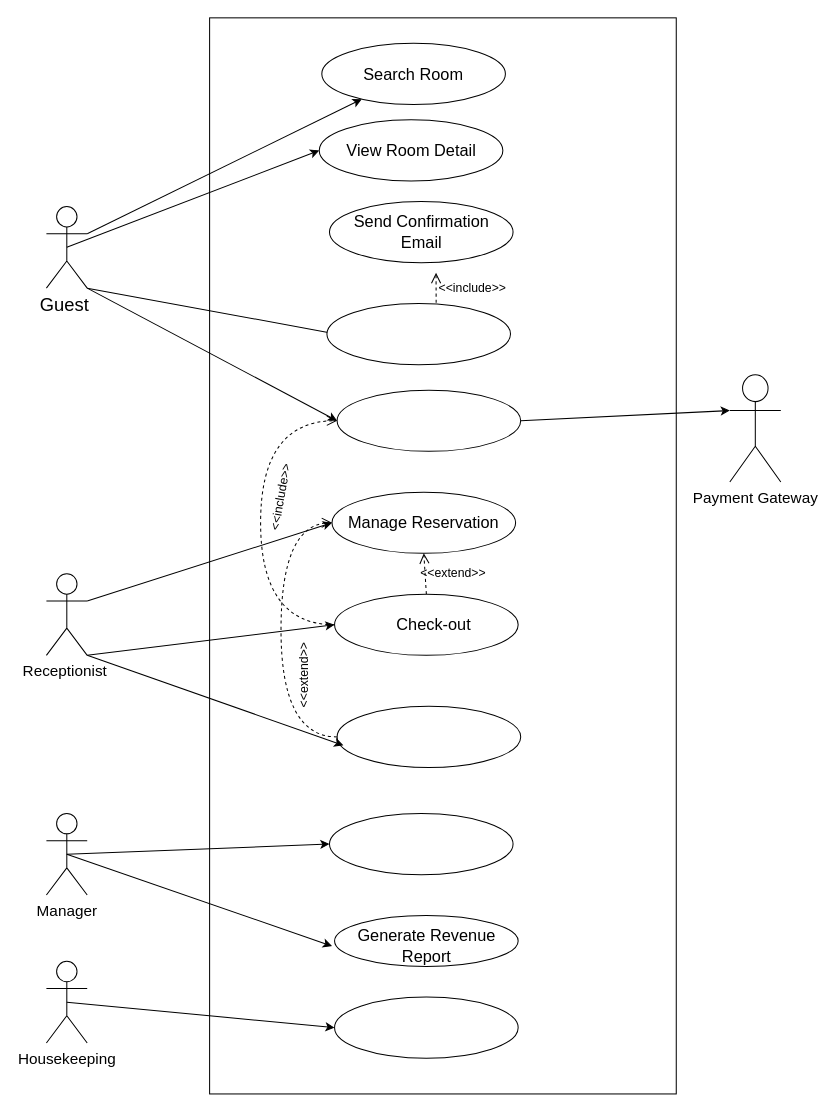
Some shapes in this 835 by 1112 pixel diagram are drawn without their labels. The shapes that lost their labels are listed below. From the top down, each one's centre as x and y in pixels, then its label:
point (418, 333): Make Reservation
point (428, 420): Make Payment (online)
point (428, 736): Check-in
point (420, 843): Manage Rooms & Pricing
point (426, 1027): Update Housekeeping Task
